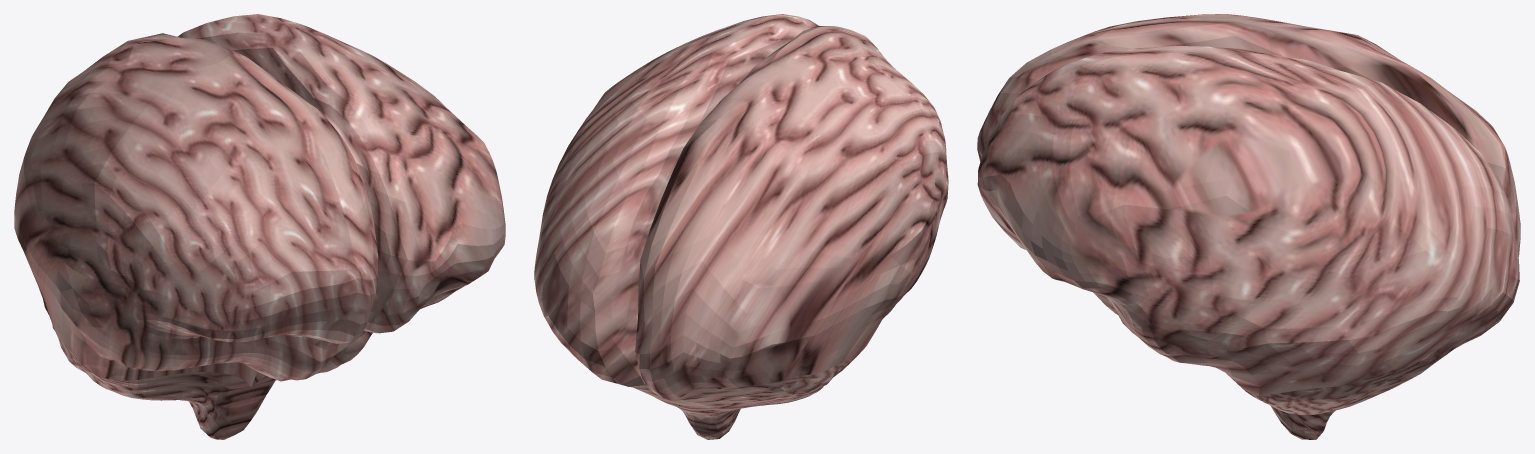
The model's file is brain.fbx.
The picture shows the model from 3 angles, left to right: view 1: azimuth 30°, elevation 25°; view 2: azimuth 150°, elevation 25°; view 3: azimuth 270°, elevation 25°; orthographic projection. The views are drawn at different scales.
Parts seen in each view (by area): view 1: pCube1; view 2: pCube1; view 3: pCube1.
Boxes of the visible parts, <box> form: pCube1: <box>14,14,505,439</box>; pCube1: <box>534,14,948,439</box>; pCube1: <box>977,14,1520,439</box>.
Bounding box in the file's own units: 6.91 × 7.13 × 8.71.
Materials: 1 (1 with a texture image).
